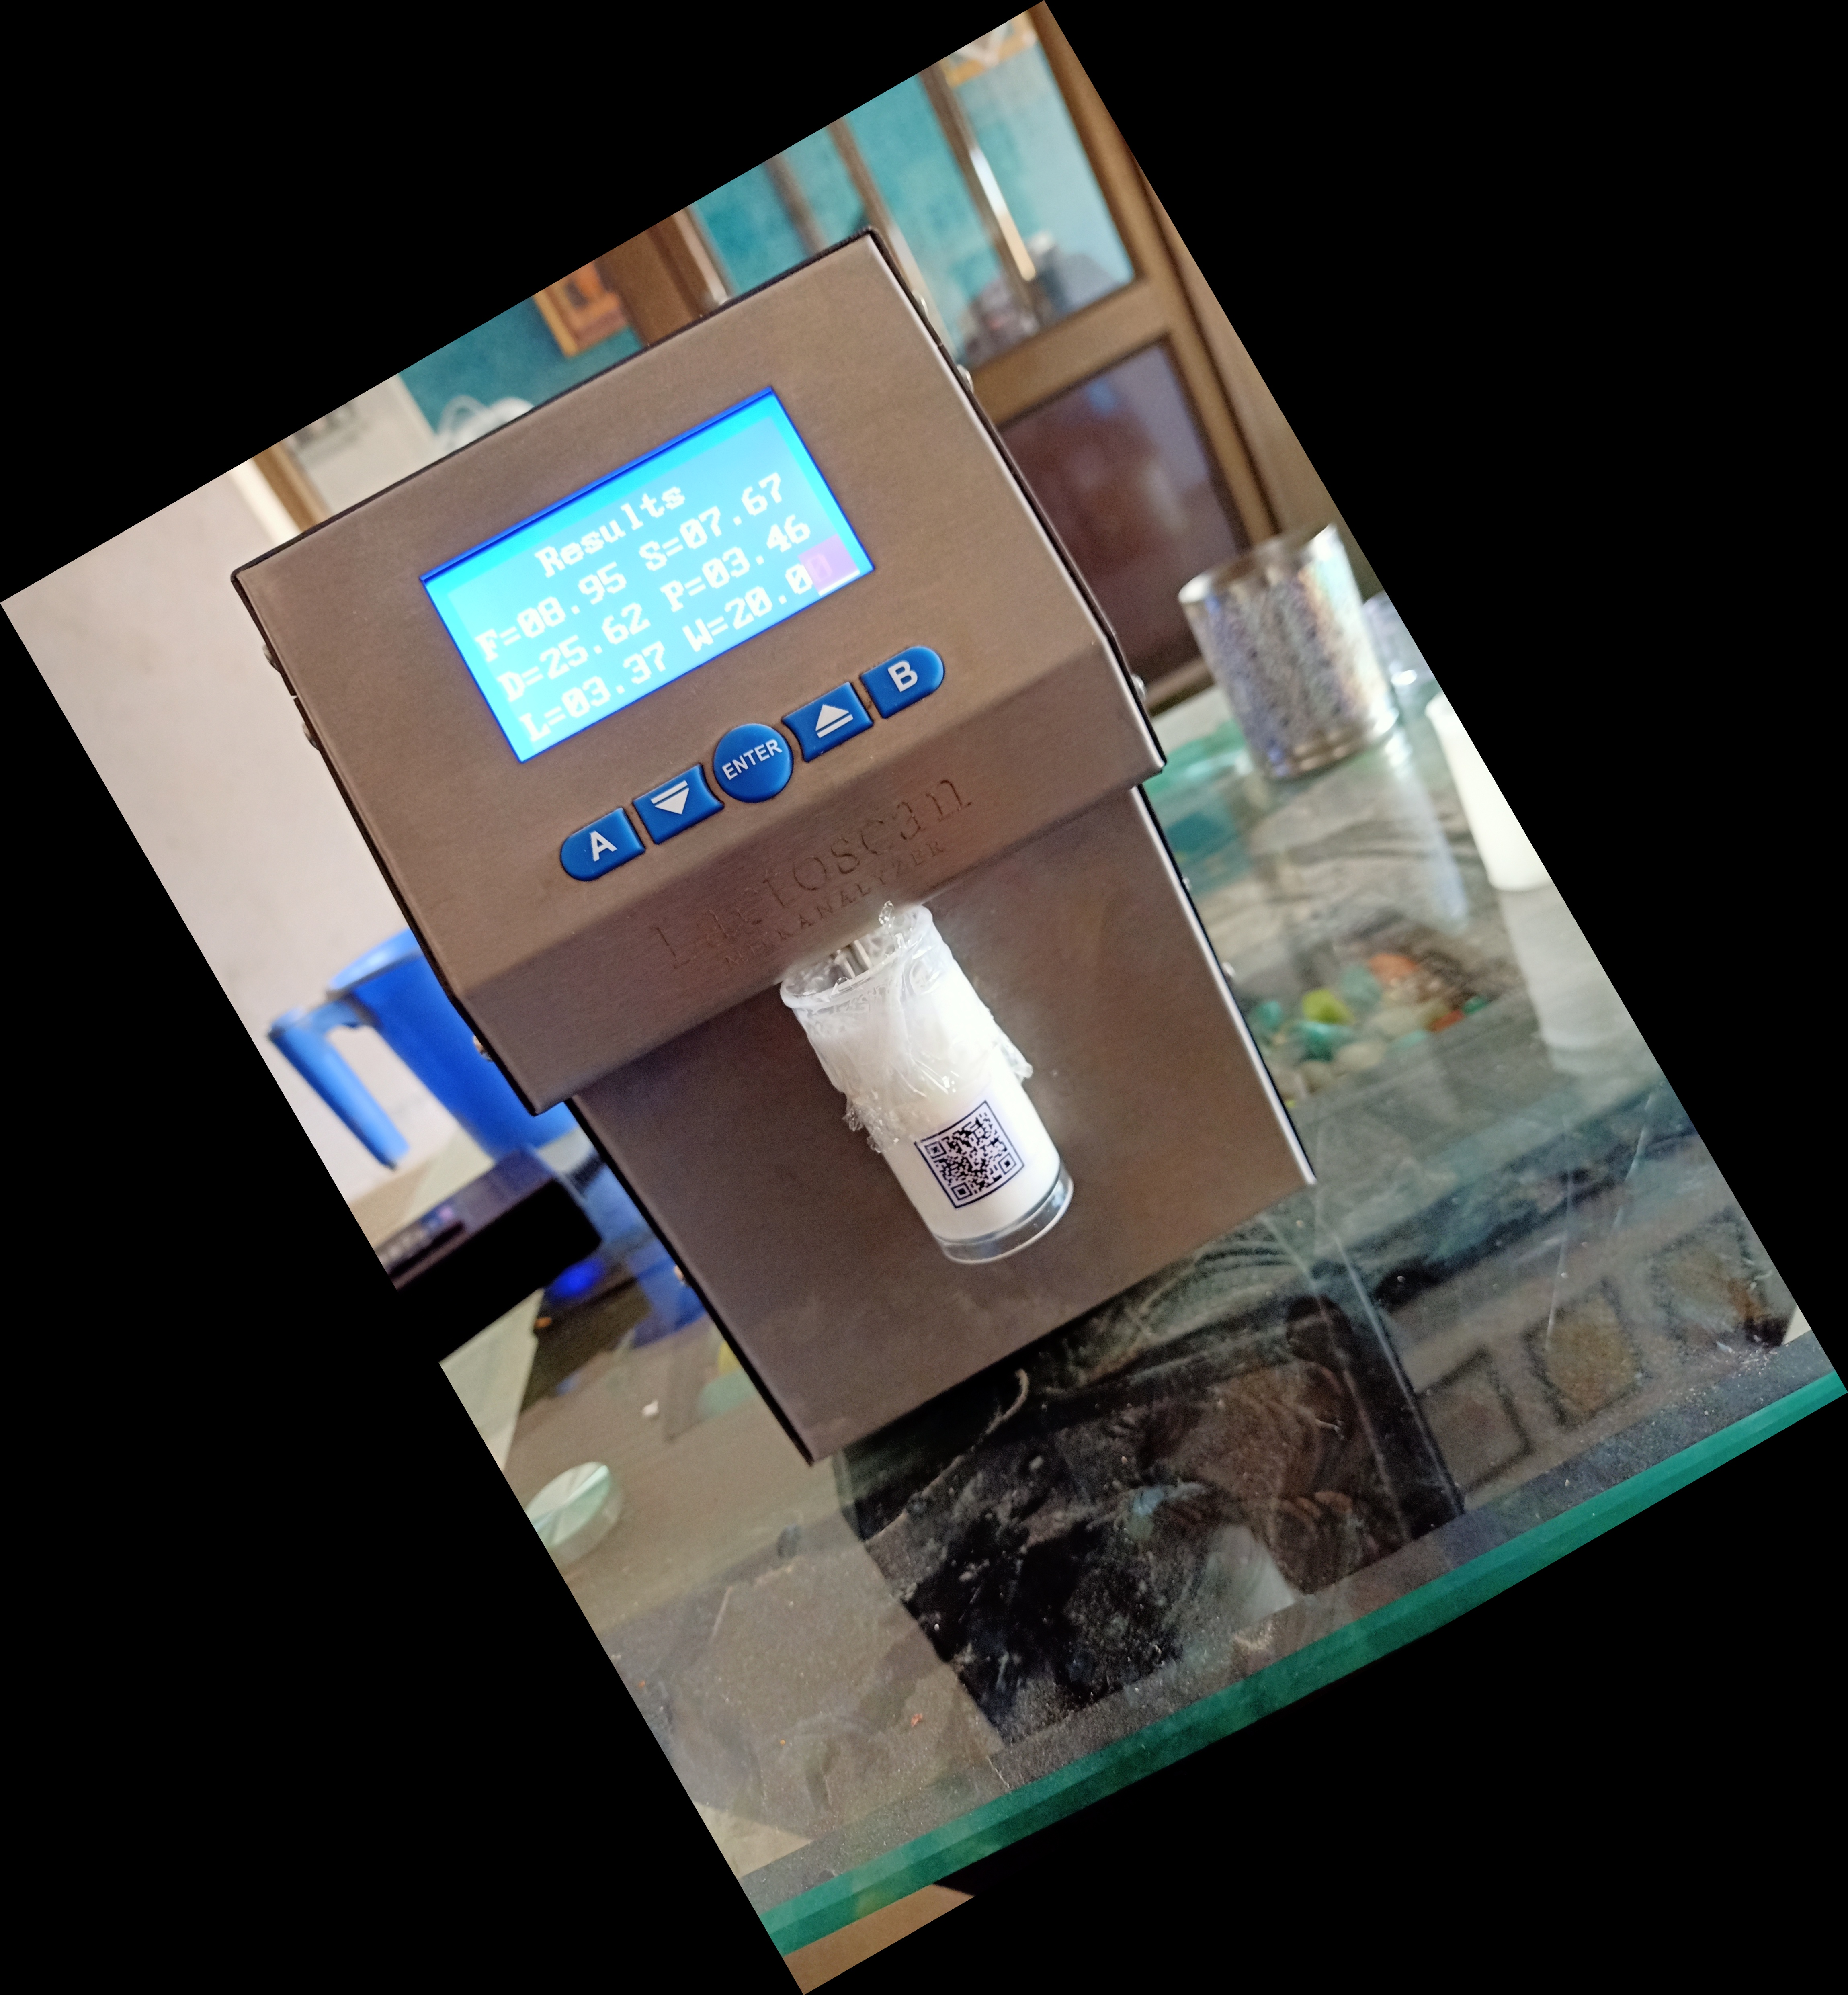lcd: (403, 370, 881, 787)
qr: (892, 1081, 1040, 1229)
